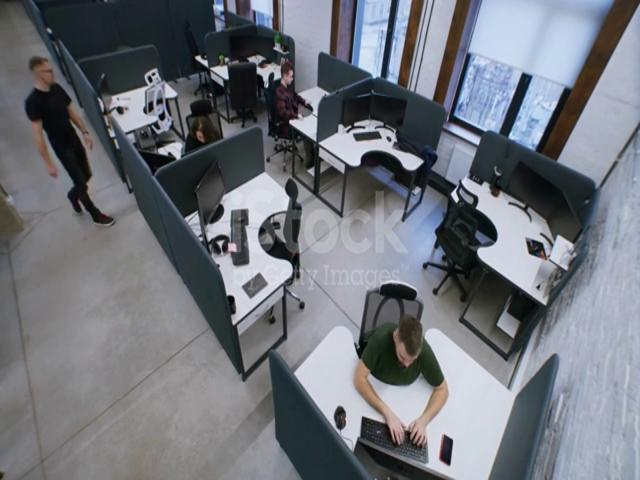EMPTY_CHAIR: (259, 158, 312, 318), (429, 186, 496, 311), (134, 47, 178, 146), (220, 55, 261, 131), (175, 0, 203, 69)
PERSON_IN_CHAIR: (362, 268, 443, 396), (262, 47, 316, 170), (174, 103, 230, 161)
